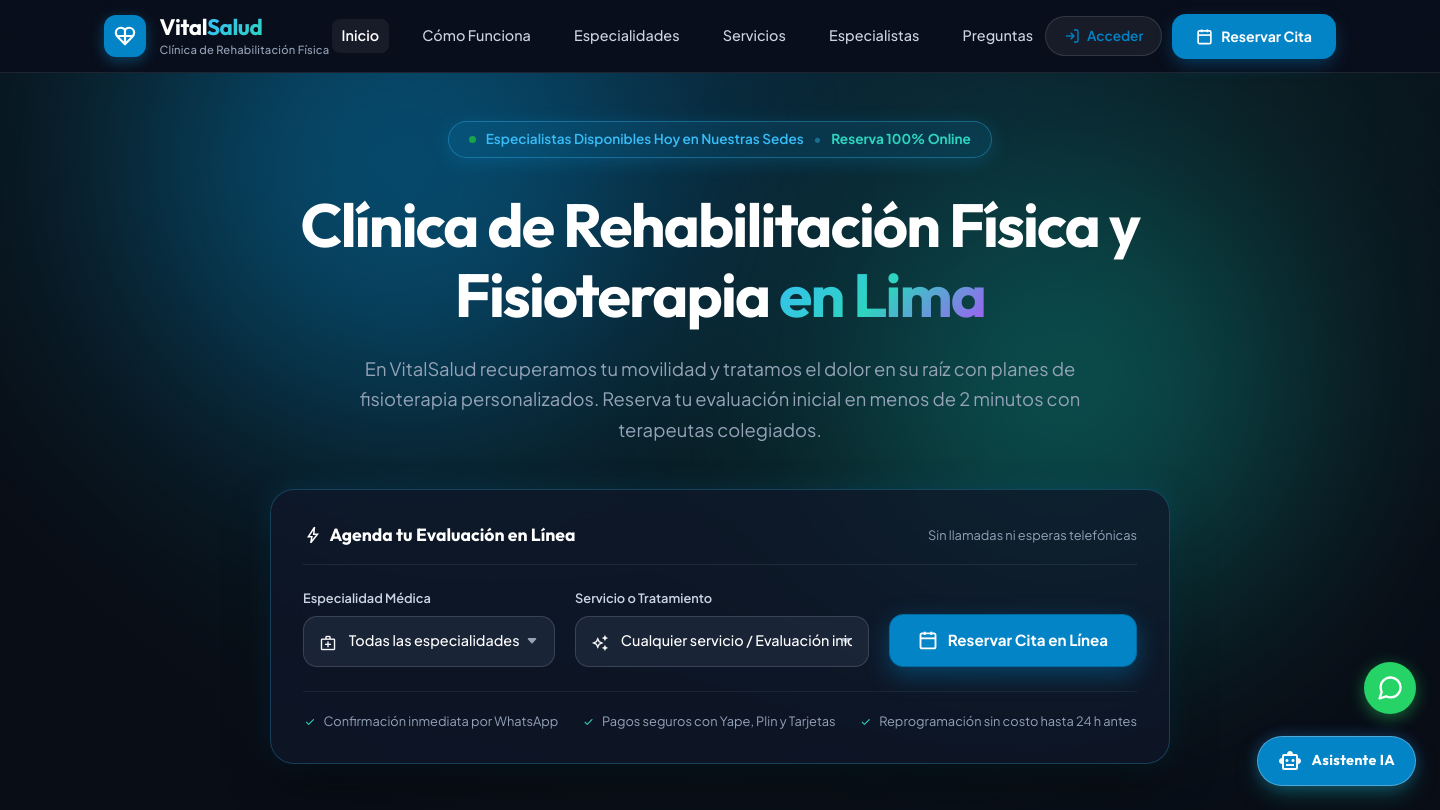
Test case: App Root Component Navigation › navigates to Login page when clicking Acceder and returns to home
Click the button "Acceder" at (1104, 36), box [1045,16,1162,56]
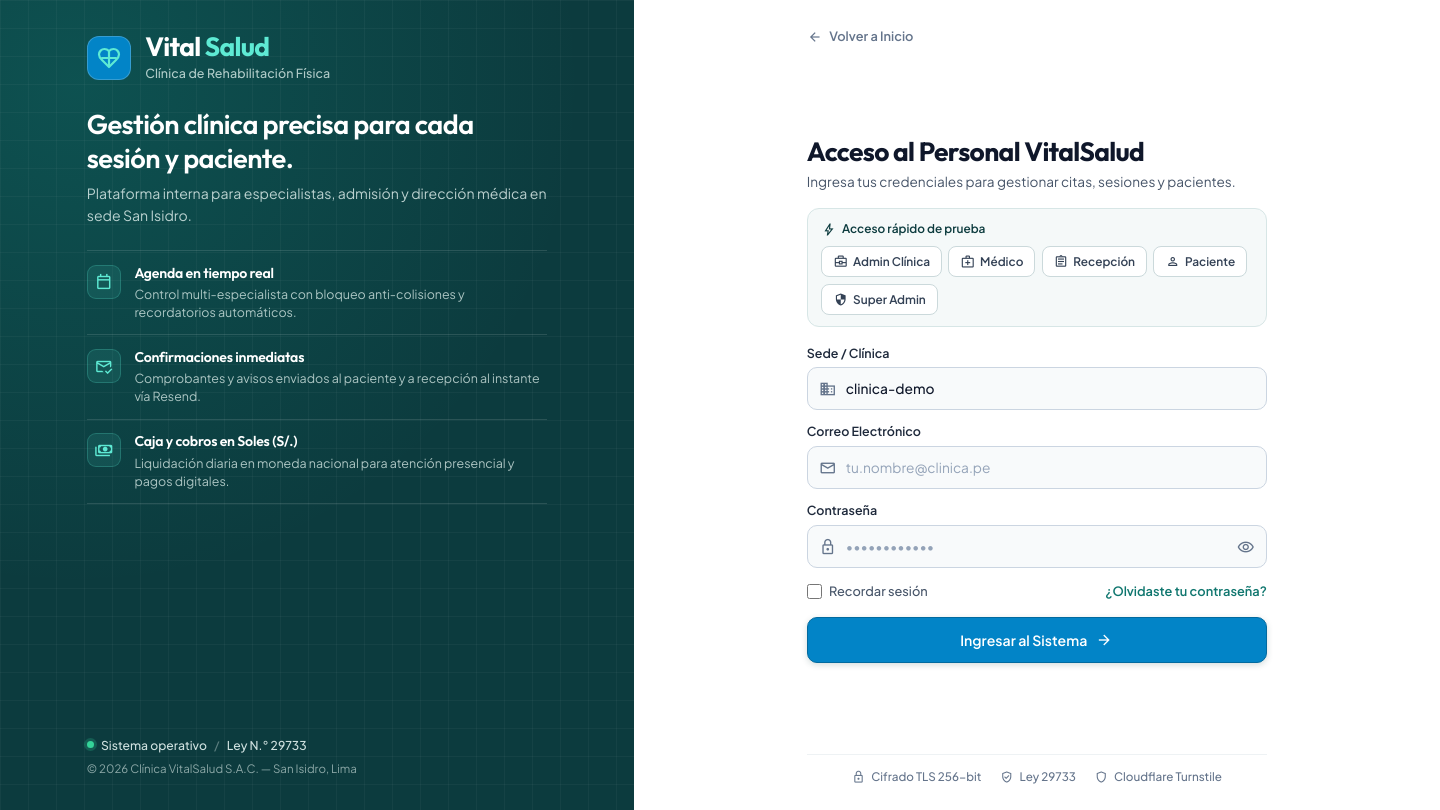
Check: the heading "Acceso al Personal VitalSalud" is shown, box [807,135,1144,168]
Click the button "Volver a Inicio" at (871, 36), box [807,24,1267,50]
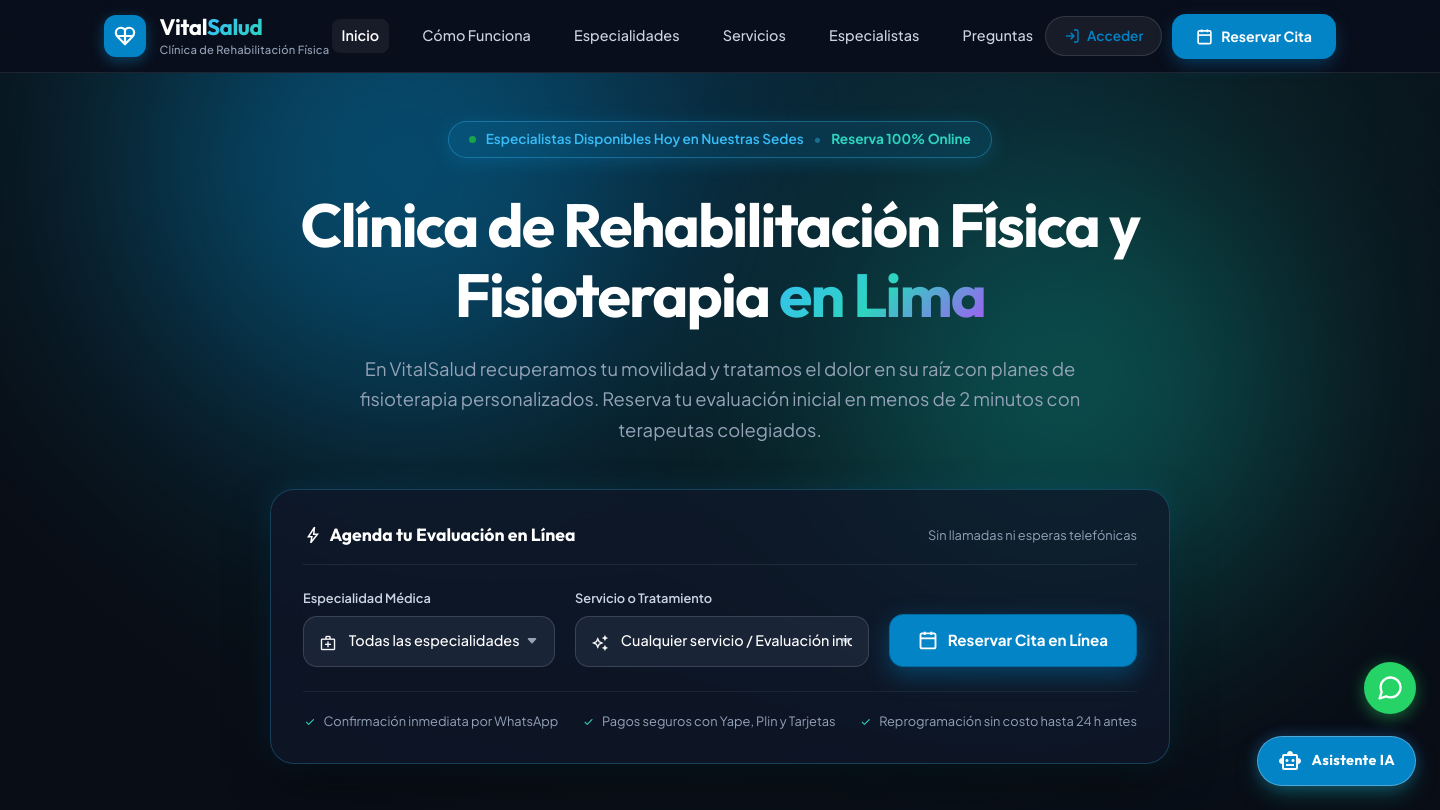
Check: the heading "Clínica de Rehabilitación Física y Fisioterapia en Lima" is shown, box [245,190,1195,330]
